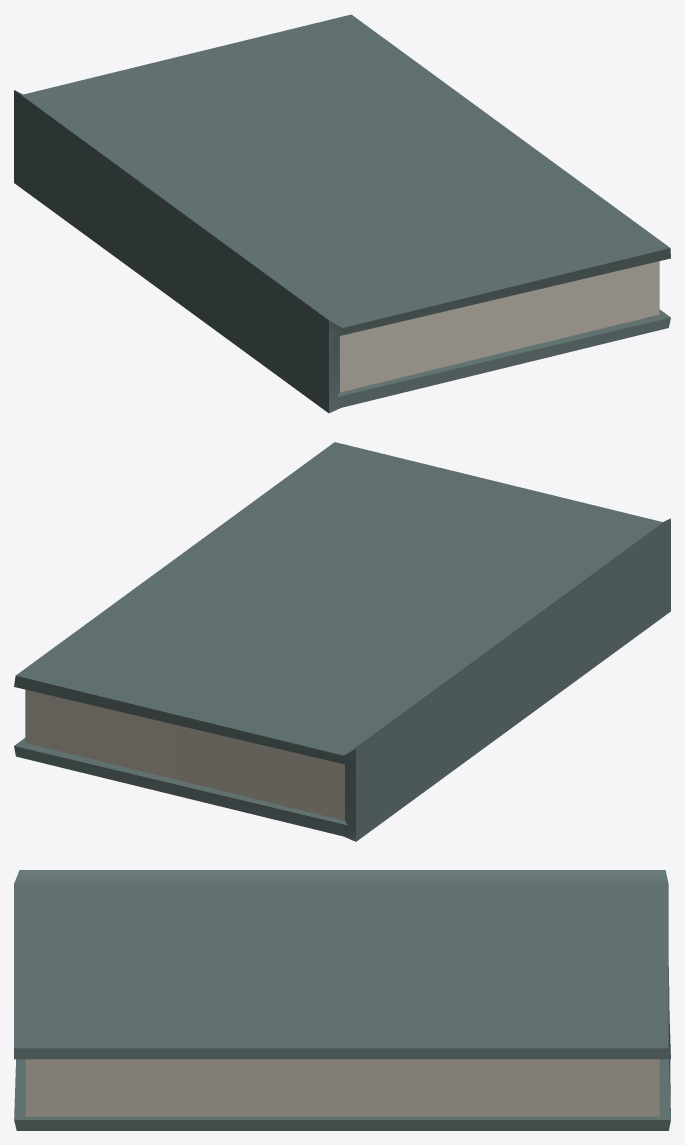
Rendered from Book_5.fbx.
3 views of the same model, one above another, from view 1: azimuth 30°, elevation 25°; view 2: azimuth 150°, elevation 25°; view 3: azimuth 270°, elevation 25° (orthographic). The views are drawn at different scales.
Parts seen in each view (by area): view 1: pCube5; view 2: pCube5; view 3: pCube5.
Boxes of the visible parts, left/top/right/bottom form: pCube5: left=14, top=14, right=670, bottom=413; pCube5: left=14, top=442, right=670, bottom=841; pCube5: left=14, top=870, right=670, bottom=1130.
Bounding box in the file's own units: 1.06 × 0.2779 × 1.73.
Materials: 1 (1 with a texture image).
